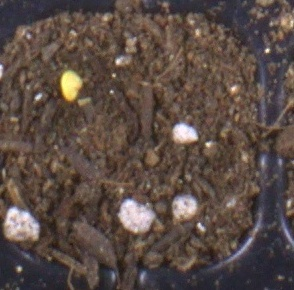chilli seed: (59, 70, 83, 101)
